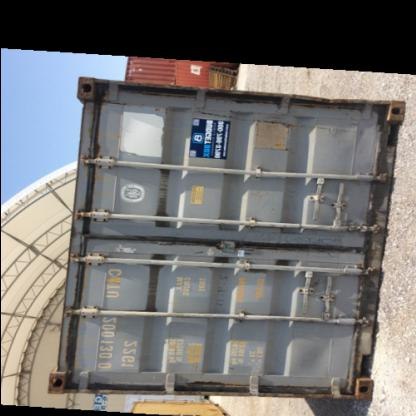Damage: (242, 222, 350, 262), (308, 88, 402, 126), (196, 106, 296, 132), (89, 126, 119, 202), (354, 210, 386, 278), (60, 314, 86, 392), (76, 78, 130, 115), (207, 268, 231, 314), (148, 168, 174, 210)
